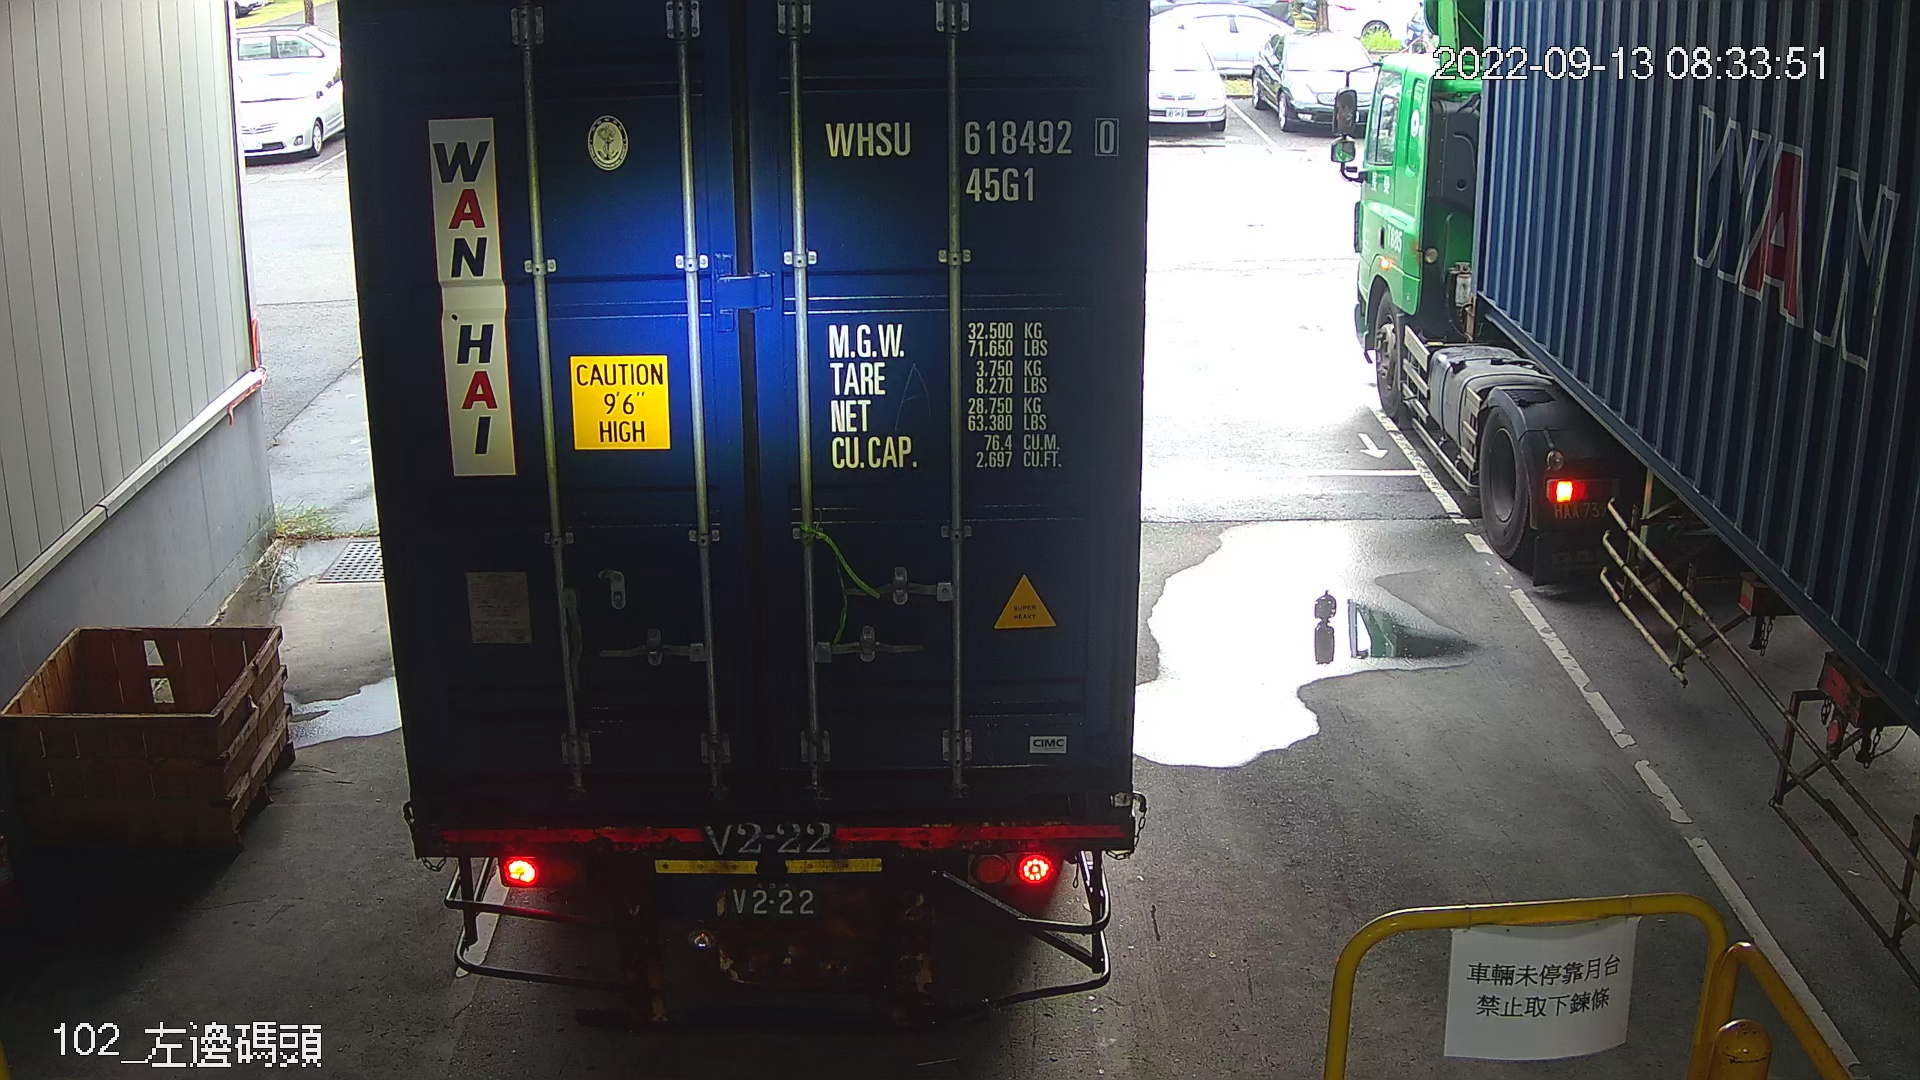container: (808, 102, 1138, 210)
